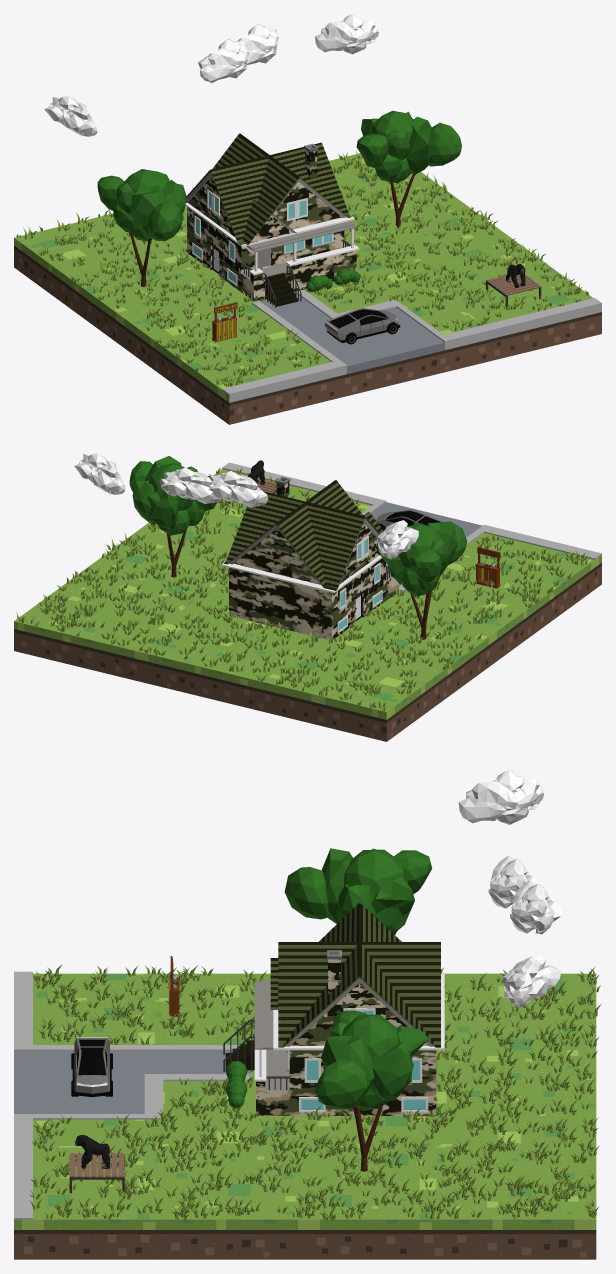
3 renders of one model, top to bottom at view 1: azimuth 30°, elevation 25°; view 2: azimuth 150°, elevation 25°; view 3: azimuth 270°, elevation 25°, orthographic. The views are drawn at different scales.
Parts seen in each view (by area): view 1: Cube.006, Cube.001, Circle.012_Grass_0.192, Cube.007, tree, tree.001, VEHICLES_CYBERTRUCK, OBJRANDOM_LEMONADE_STAND, Cube.009; view 2: Cube.006, Cube.001, Circle.012_Grass_0.192, Cube.007, tree.001, tree, OBJRANDOM_LEMONADE_STAND, VEHICLES_CYBERTRUCK; view 3: Cube.006, Circle.012_Grass_0.192, Cube.001, tree, Cube.007, tree.001, VEHICLES_CYBERTRUCK, Cube.009, ANIMAL_GORILA.
Boxes of the visible parts, bbox=[...] form: Cube.006: bbox=[14, 153, 601, 424]; Cube.001: bbox=[185, 133, 359, 307]; Circle.012_Grass_0.192: bbox=[16, 150, 588, 386]; Cube.007: bbox=[44, 14, 378, 136]; tree: bbox=[356, 110, 461, 228]; tree.001: bbox=[97, 169, 186, 286]; VEHICLES_CYBERTRUCK: bbox=[325, 308, 400, 344]; OBJRANDOM_LEMONADE_STAND: bbox=[212, 302, 237, 342]; Cube.009: bbox=[486, 274, 541, 306]; Cube.006: bbox=[14, 462, 601, 741]; Cube.001: bbox=[221, 476, 398, 640]; Circle.012_Grass_0.192: bbox=[16, 468, 588, 711]; Cube.007: bbox=[74, 453, 418, 559]; tree.001: bbox=[375, 521, 467, 639]; tree: bbox=[129, 456, 216, 577]; OBJRANDOM_LEMONADE_STAND: bbox=[475, 547, 500, 588]; VEHICLES_CYBERTRUCK: bbox=[376, 509, 444, 530]; Cube.006: bbox=[14, 971, 596, 1259]; Circle.012_Grass_0.192: bbox=[29, 964, 601, 1220]; Cube.001: bbox=[223, 903, 444, 1115]; tree: bbox=[315, 1010, 428, 1171]; Cube.007: bbox=[458, 770, 561, 1007]; tree.001: bbox=[284, 848, 432, 934]; VEHICLES_CYBERTRUCK: bbox=[71, 1037, 112, 1096]; Cube.009: bbox=[69, 1153, 124, 1193]; ANIMAL_GORILA: bbox=[75, 1135, 109, 1168].
Size of the model in its own units: 4071 by 2277 by 4040.
34 materials, 5 textured.
